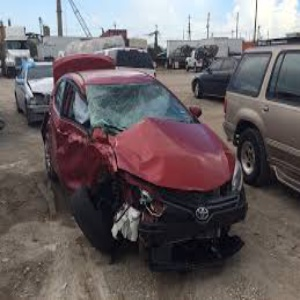bonnet: (115, 122, 236, 186)
bumper: (104, 202, 250, 277)
front_windshield_glass: (86, 84, 184, 122)
